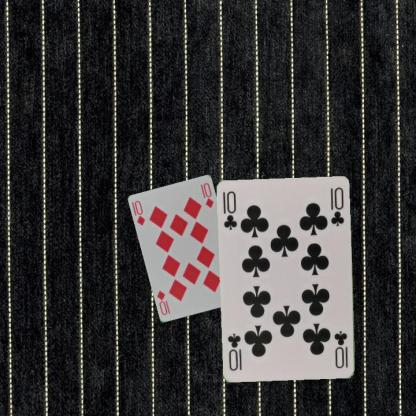10c: (332, 328, 350, 370), (221, 189, 239, 231)
10d: (132, 198, 147, 227)
